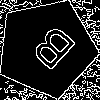B: (21, 23, 79, 80)
